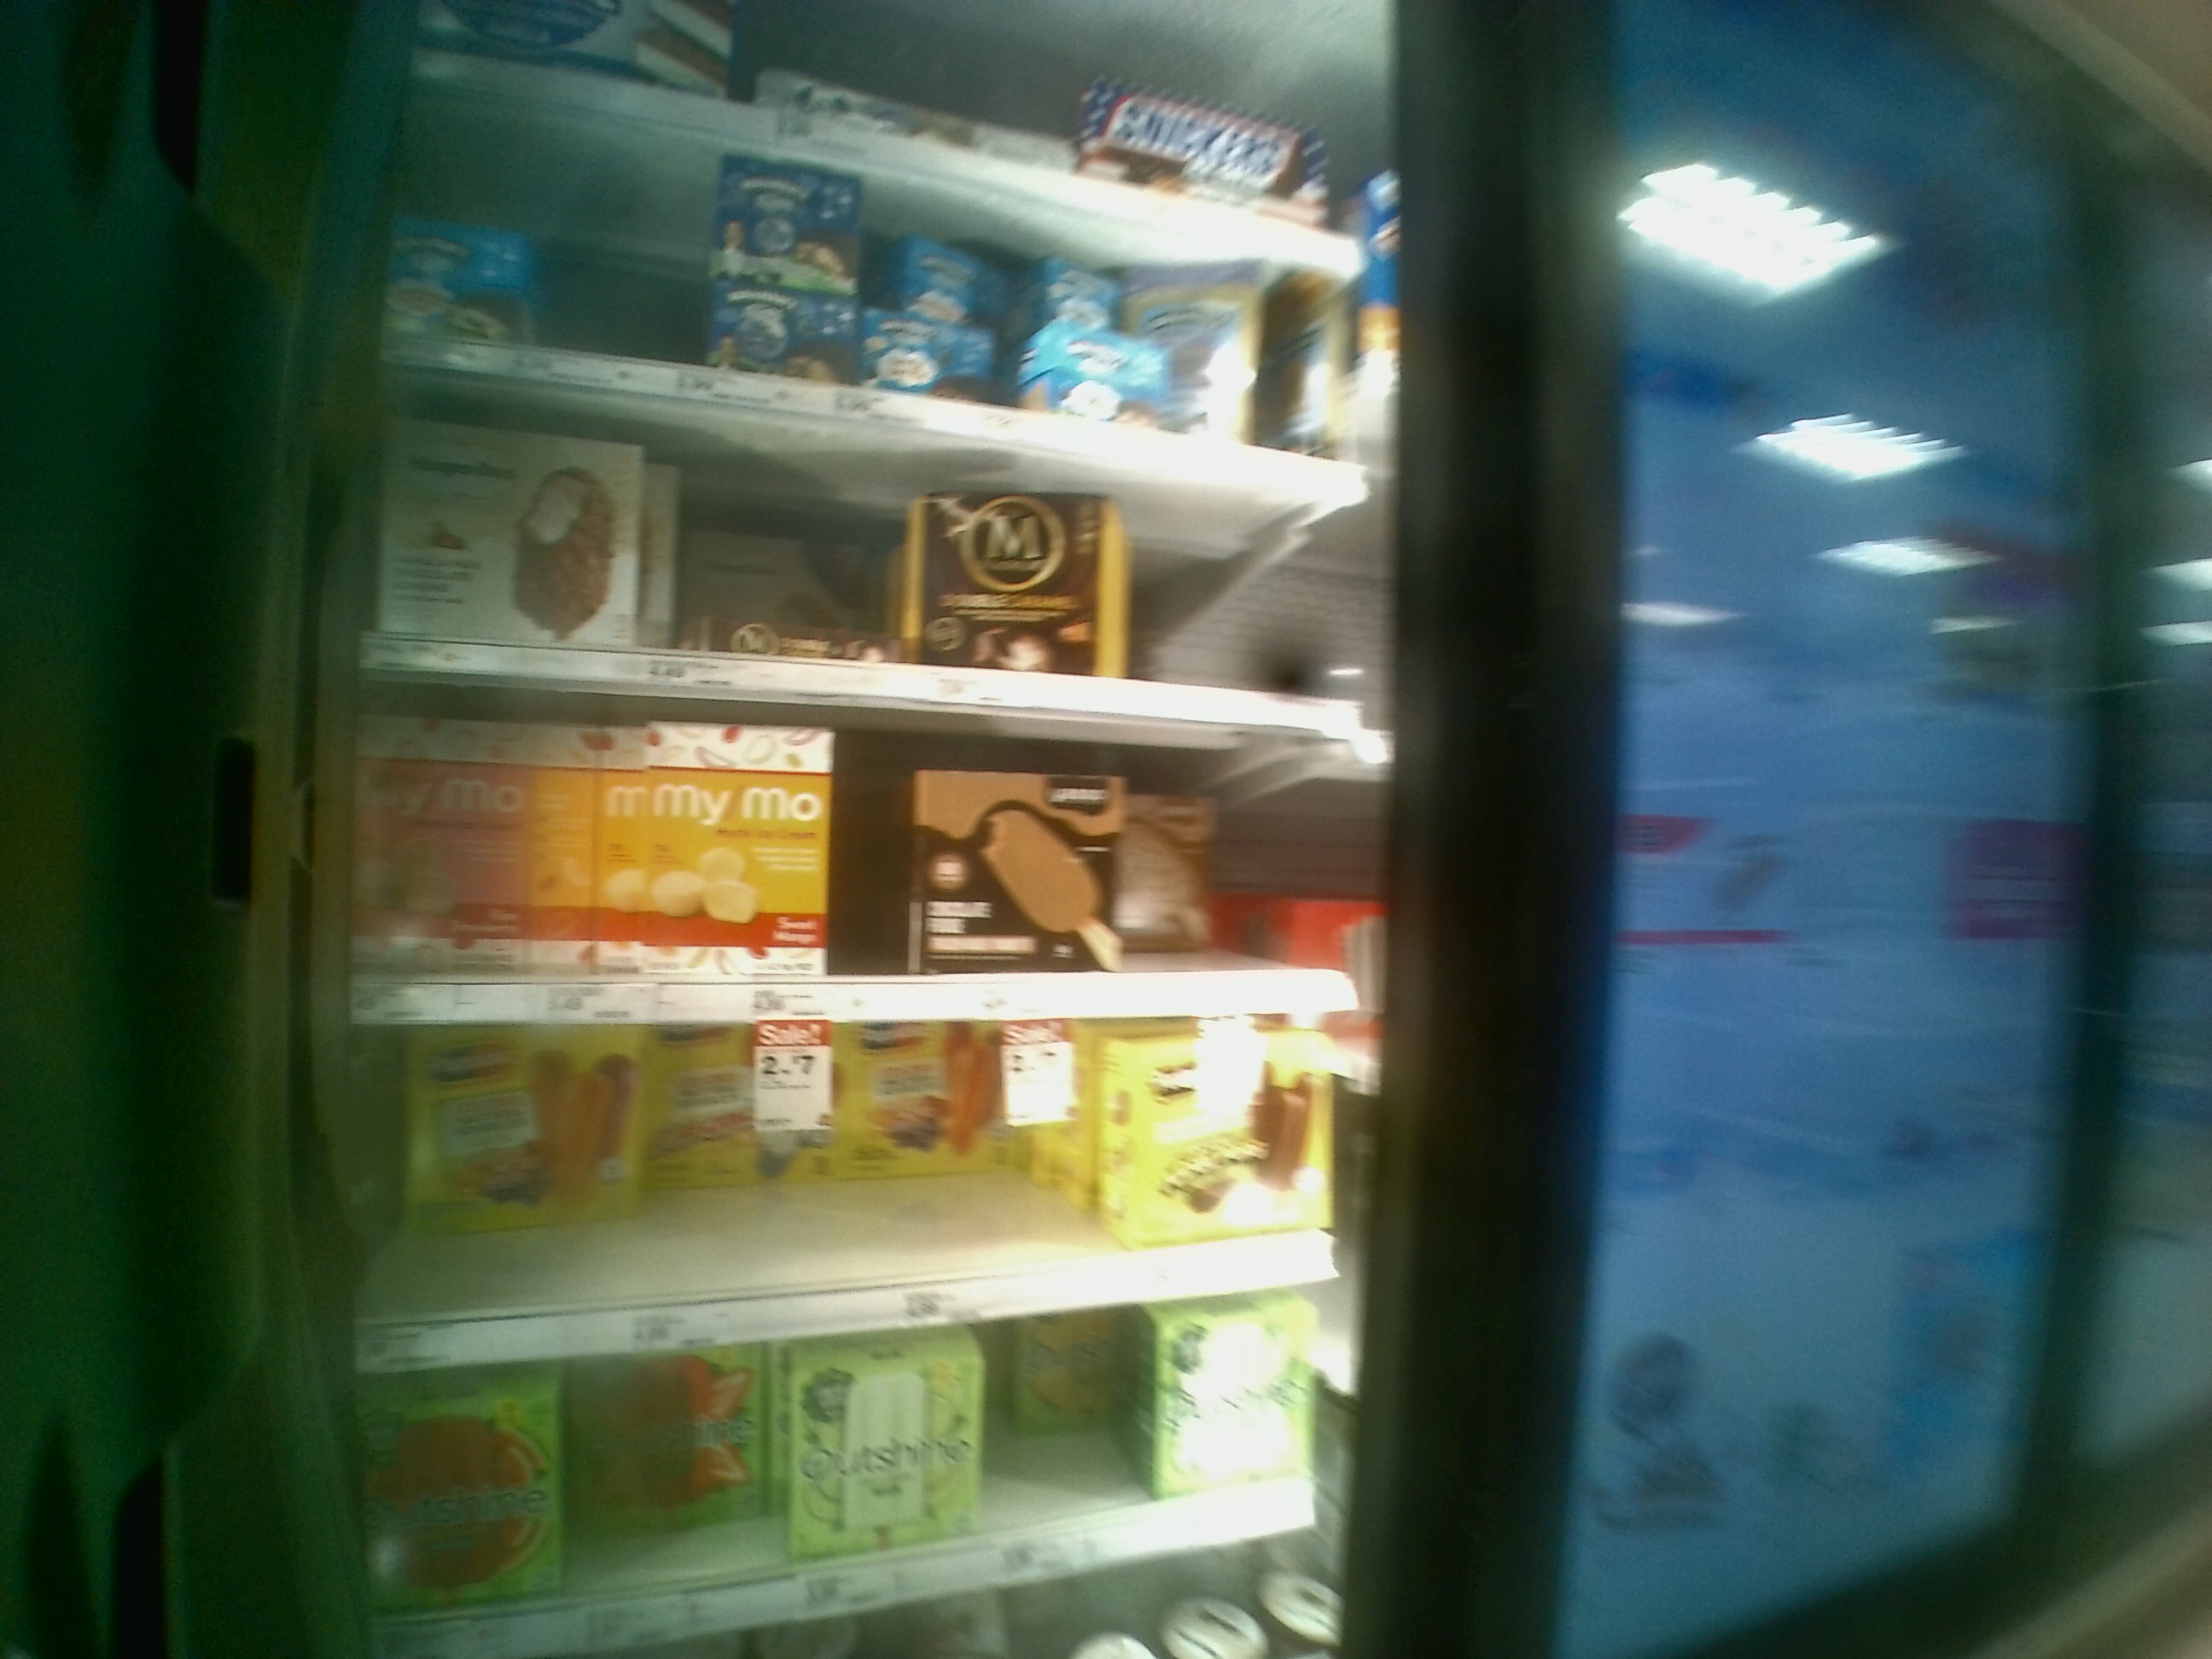ice-cream-shelf: (361, 678, 1372, 1018), (354, 1025, 1378, 1333)
